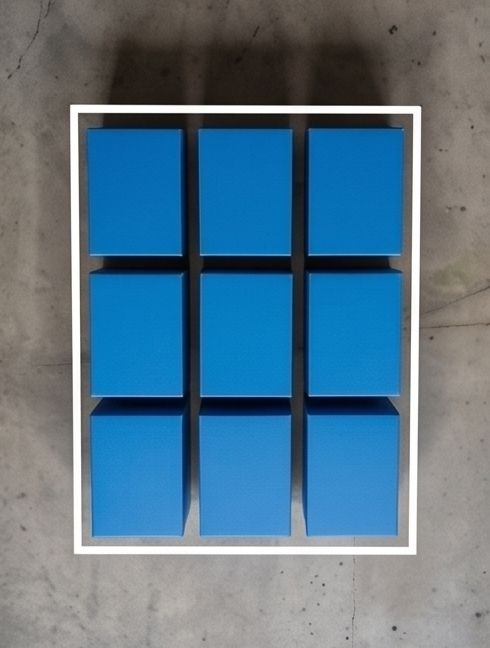blue_box: (302, 390, 400, 537), (90, 397, 191, 536), (198, 397, 291, 538), (89, 266, 189, 397), (303, 267, 402, 397), (88, 128, 187, 256), (198, 128, 293, 256), (200, 267, 293, 397)
container_box: (72, 105, 420, 556)
